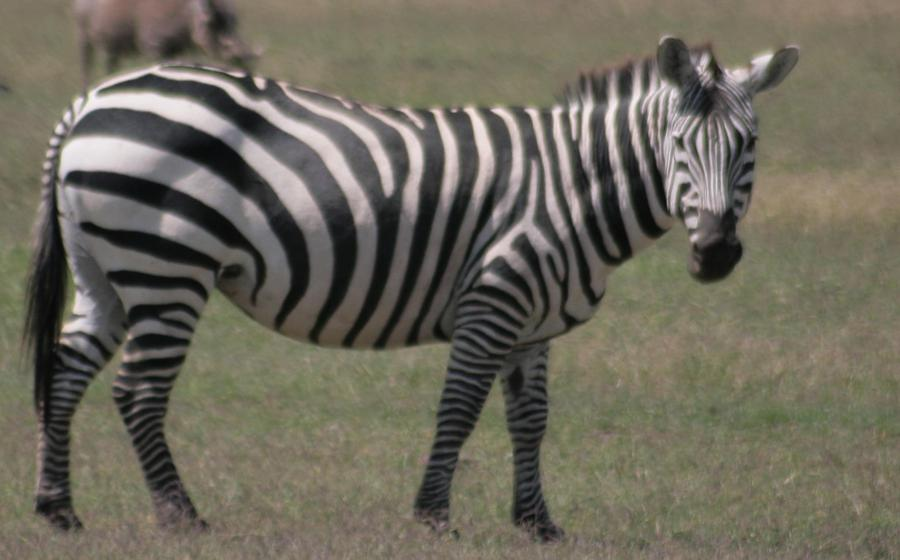zebra_plains: (74, 66, 596, 338)
